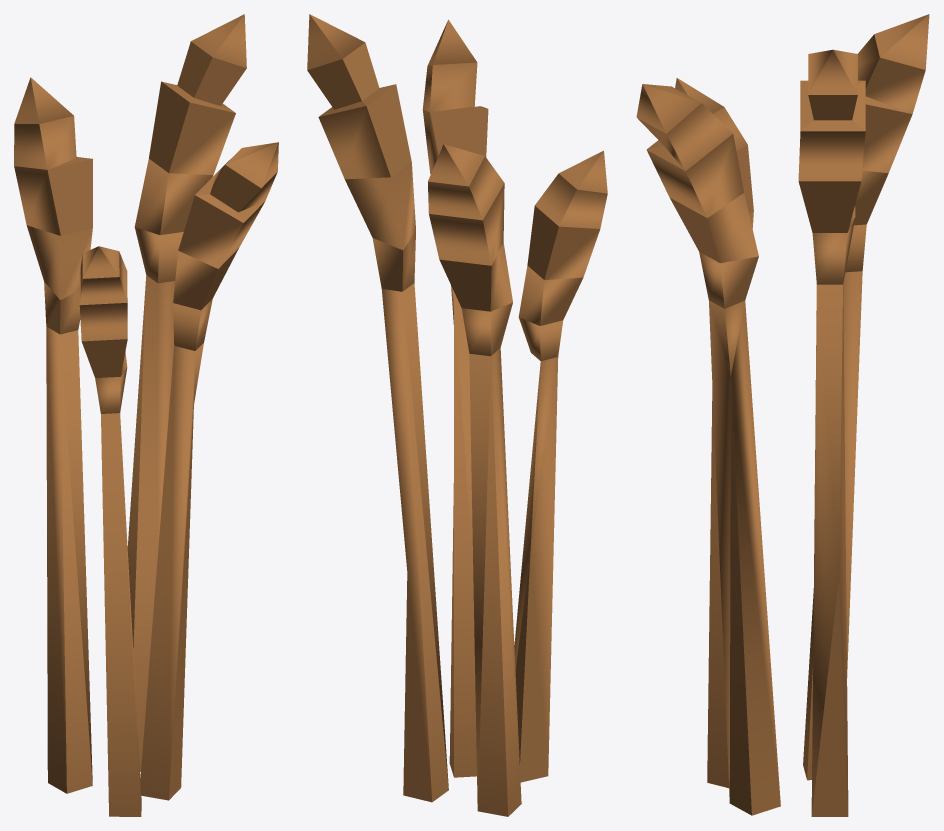
The model's file is cc0-wheat-lod1.glb.
3 renders of one model, left to right at view 1: azimuth 30°, elevation 25°; view 2: azimuth 150°, elevation 25°; view 3: azimuth 270°, elevation 25°, orthographic. The views are drawn at different scales.
Visible parts, largest first — view 1: part_0; view 2: part_0; view 3: part_0.
Part boxes in pixels (x1,y1,x2,y2): part_0: (14, 14, 278, 816); part_0: (307, 14, 607, 816); part_0: (636, 14, 929, 816).
Size of the model in its own units: 0.3578 by 1.1 by 0.3565.
